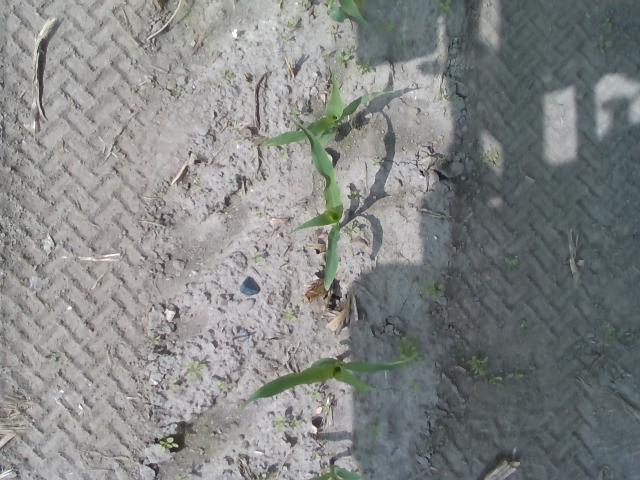Maize: (261, 74, 422, 153), (241, 352, 417, 414), (286, 112, 345, 294), (306, 457, 366, 480), (324, 0, 370, 28)
Weeds: (167, 362, 206, 390), (338, 46, 374, 74), (592, 15, 615, 53), (399, 336, 423, 363), (490, 369, 528, 385), (467, 354, 489, 379), (272, 417, 306, 431), (423, 280, 442, 300), (378, 18, 396, 34), (342, 223, 360, 238), (436, 0, 454, 13), (160, 438, 178, 451), (328, 26, 344, 40), (504, 256, 522, 266), (366, 424, 384, 434), (608, 328, 624, 338), (220, 71, 236, 80), (215, 378, 225, 392), (520, 320, 529, 335), (409, 382, 419, 394), (289, 108, 300, 118), (398, 40, 408, 50), (489, 152, 499, 161), (287, 311, 297, 320), (314, 388, 321, 400), (372, 159, 382, 167), (350, 192, 360, 200), (174, 473, 185, 480), (254, 255, 264, 262)
